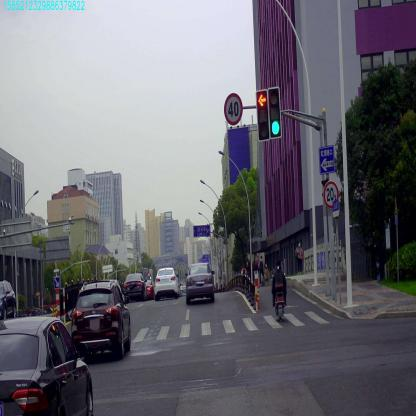traffic-light: (256, 91, 270, 139), (268, 88, 281, 137)
